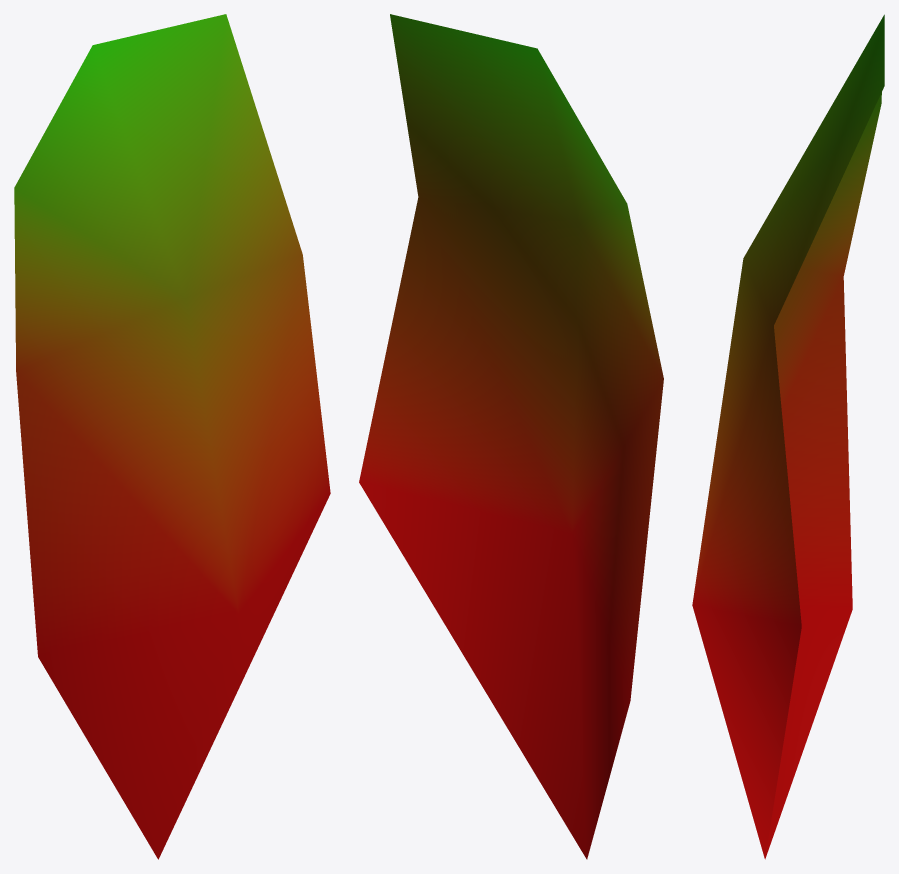
File: Var3_LOD6.fbx
3 renders of one model, left to right at view 1: azimuth 30°, elevation 25°; view 2: azimuth 150°, elevation 25°; view 3: azimuth 270°, elevation 25°, orthographic. The views are drawn at different scales.
Parts seen in each view (by area): view 1: _7gns_Var3_LOD6; view 2: _7gns_Var3_LOD6; view 3: _7gns_Var3_LOD6.
Part boxes in pixels (x1,y1,x2,y2): _7gns_Var3_LOD6: (14,14,330,859); _7gns_Var3_LOD6: (359,14,663,859); _7gns_Var3_LOD6: (692,14,884,859).
Size of the model in its own units: 79.6 by 200 by 41.51.
